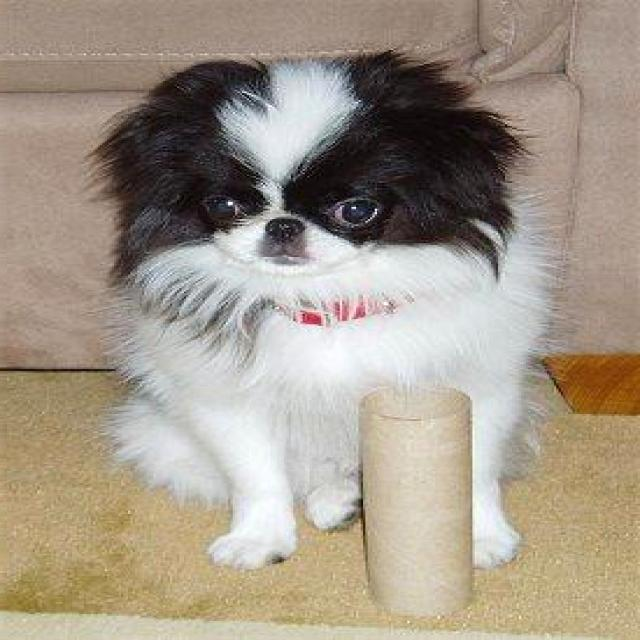husky: (89, 50, 558, 569)
